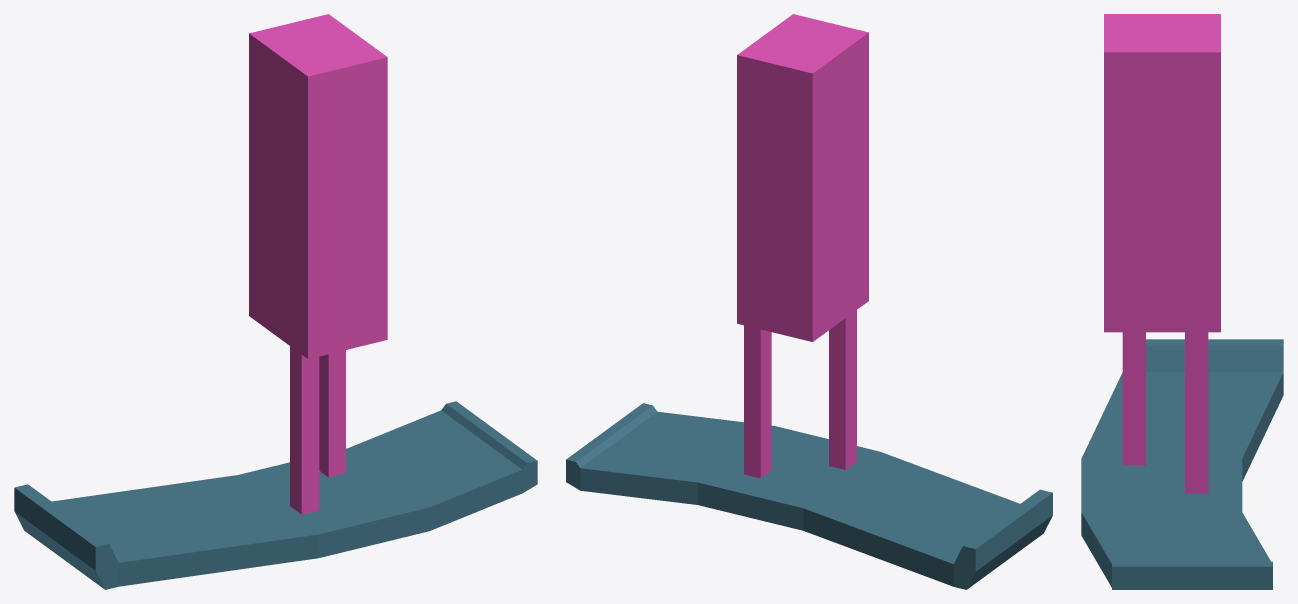
File: skater.fbx
The picture shows the model from 3 angles, left to right: view 1: azimuth 30°, elevation 25°; view 2: azimuth 150°, elevation 25°; view 3: azimuth 270°, elevation 25°; orthographic projection. The views are drawn at different scales.
Visible parts, largest first — view 1: Cube, Cube.003, Cube.001, Cube.002; view 2: Cube, Cube.003, Cube.001, Cube.002; view 3: Cube.003, Cube, Cube.002, Cube.001.
Boxes of the visible parts, x1=… form: Cube: x1=14, y1=401, x2=537, y2=589; Cube.003: x1=249, y1=14, x2=387, y2=359; Cube.001: x1=290, y1=346, x2=319, y2=514; Cube.002: x1=319, y1=350, x2=345, y2=477; Cube: x1=566, y1=403, x2=1052, y2=589; Cube.003: x1=737, y1=14, x2=868, y2=341; Cube.001: x1=829, y1=310, x2=856, y2=469; Cube.002: x1=744, y1=325, x2=771, y2=478; Cube.003: x1=1104, y1=14, x2=1220, y2=332; Cube: x1=1081, y1=339, x2=1283, y2=589; Cube.002: x1=1185, y1=332, x2=1208, y2=493; Cube.001: x1=1122, y1=332, x2=1145, y2=465.
Size of the model in its own units: 124 by 128 by 50.24.
